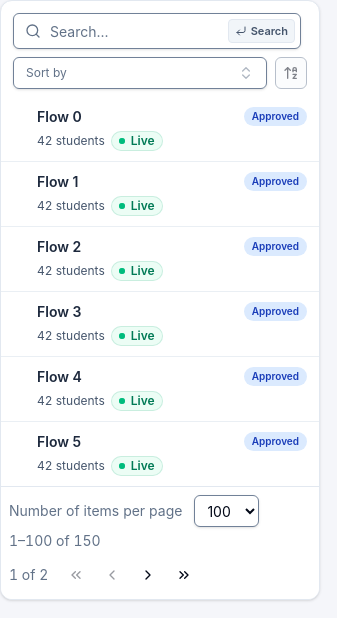
WorkflowList › R8-11 a search reads every workflow, not the current page, and hides the pager
Check: the row "Flow 0 Approved 42 students Live" is shown, box [1,97,319,162]
Check: the button named "Next" is shown, box [132,559,164,591]
Type "zeta" into the search field. click: (157, 31)
box: [13,13,301,49]
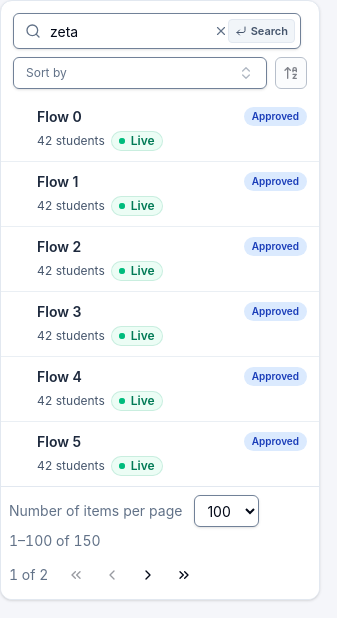
Click the button "Search". click: (261, 31)
box: [228,19,295,43]
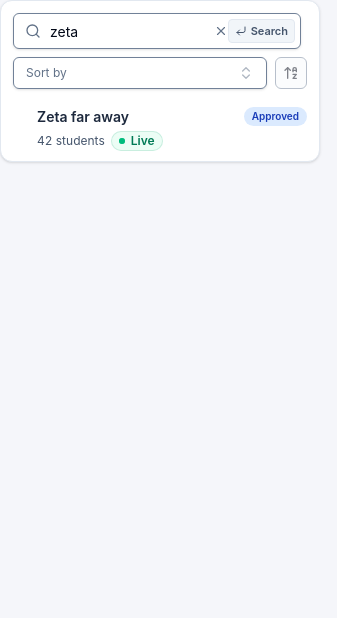
Check: the row "Zeta far away Approved 42 students Live" is shown, box [1,97,319,161]
Check: the button "Next" is gone
